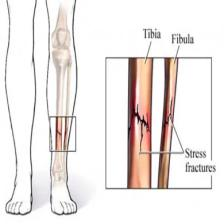stress-fracture: (124, 57, 178, 187), (48, 0, 78, 213)
